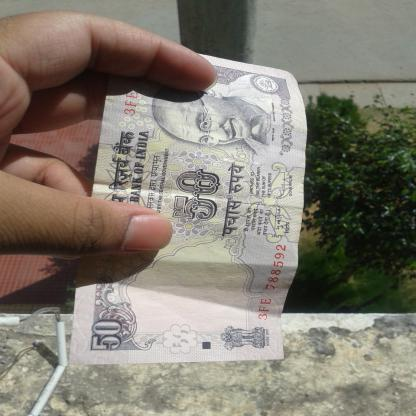Old50Front: (70, 53, 308, 366)
